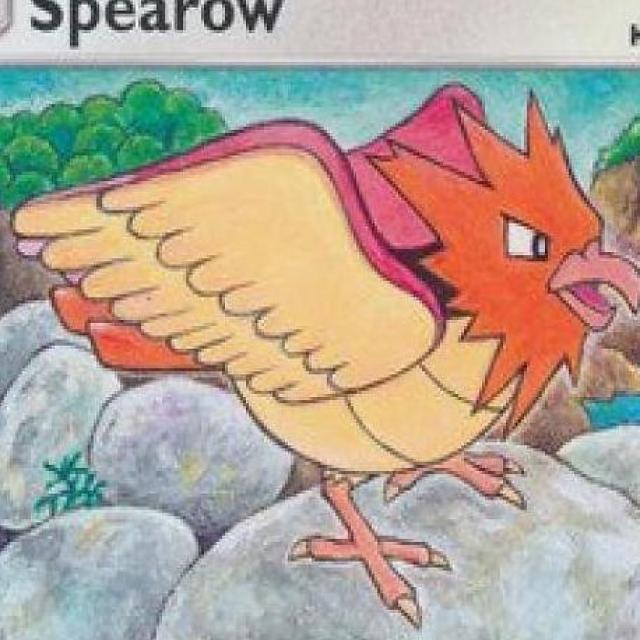Spearow: (84, 89, 619, 540)
